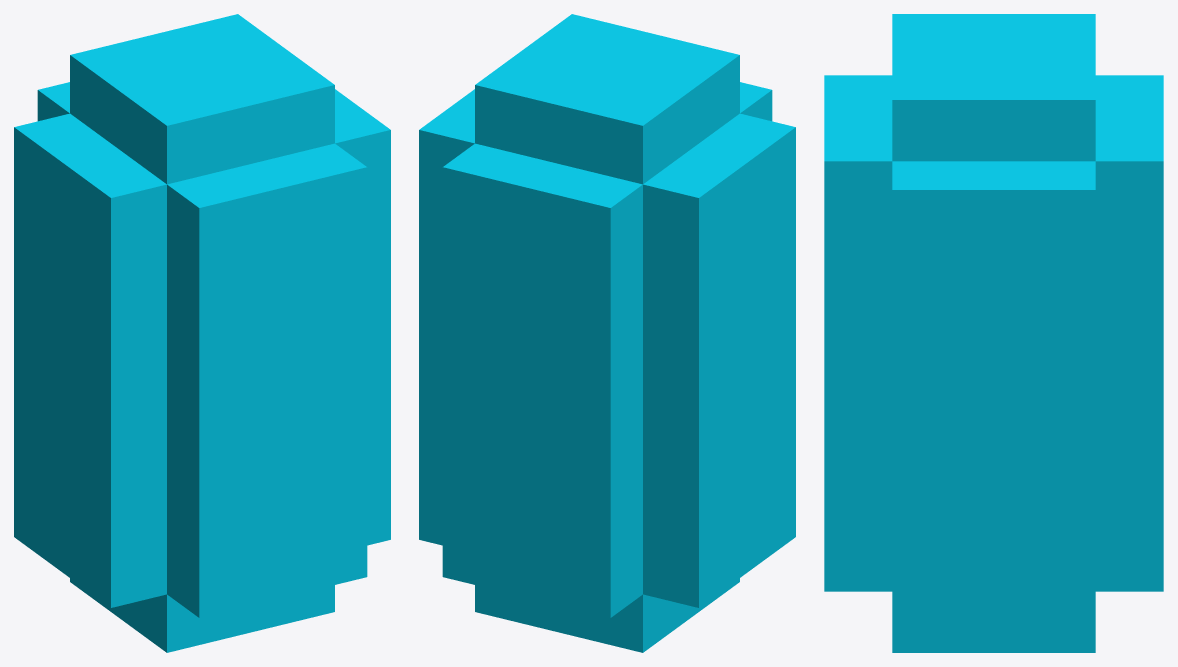
3 renders of one model, left to right at view 1: azimuth 30°, elevation 25°; view 2: azimuth 150°, elevation 25°; view 3: azimuth 270°, elevation 25°, orthographic. The views are drawn at different scales.
Parts seen in each view (by area): view 1: 96; view 2: 96; view 3: 96.
Part boxes in pixels (left/top/right/bottom): 96: left=14, top=14, right=390, bottom=652; 96: left=419, top=14, right=795, bottom=652; 96: left=824, top=14, right=1163, bottom=652.
Bounding box in the file's own units: 50 × 90 × 50.
1 material, 1 textured.
